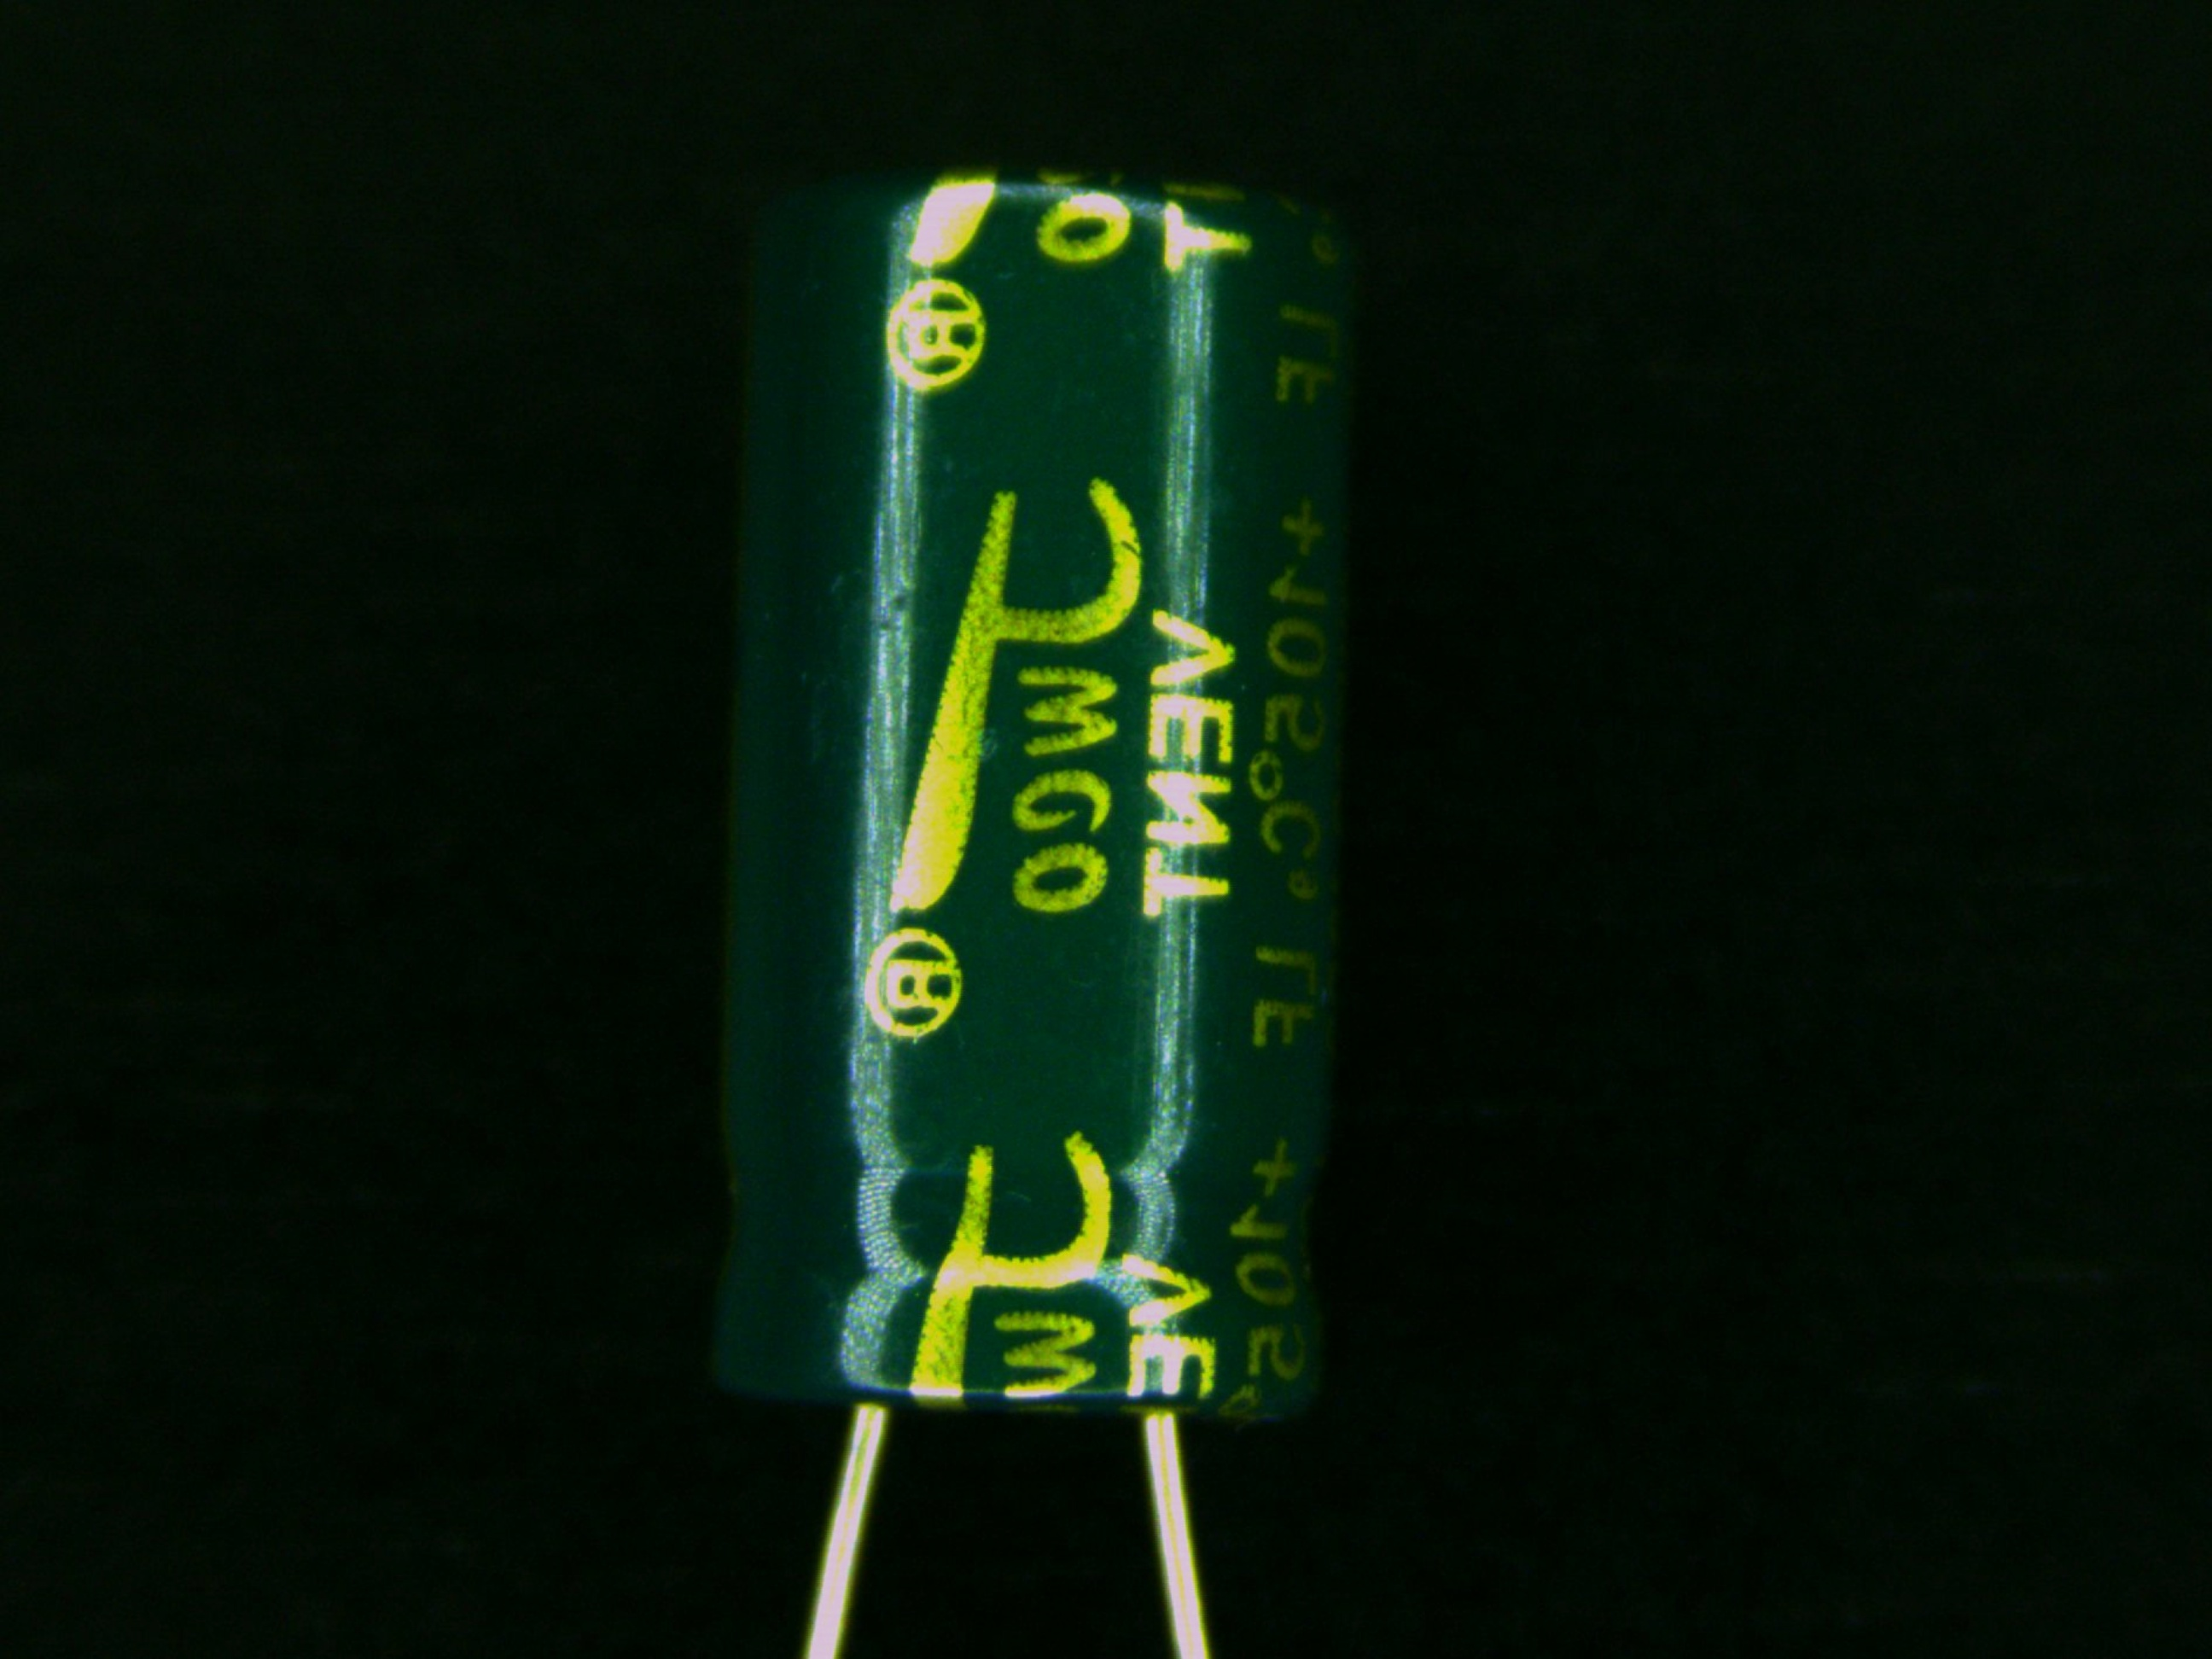c1: (697, 162, 1367, 1572)
